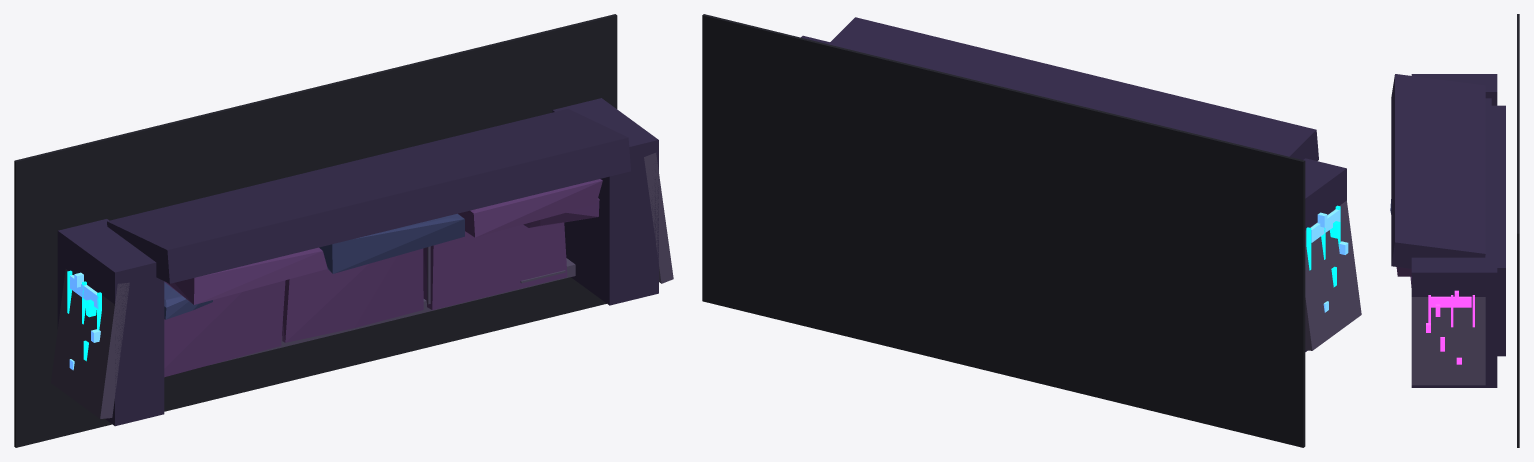
Rendered from couch.glb.
3 renders of one model, left to right at view 1: azimuth 30°, elevation 25°; view 2: azimuth 150°, elevation 25°; view 3: azimuth 270°, elevation 25°, orthographic. The views are drawn at different scales.
Visible parts, largest first — view 1: thin dark presentation floor, hard rear couch spine, right hard angular arm block, left hard angular arm block, soft overstuffed velvet seat cushion 2, soft overstuffed velvet seat cushion 3, soft overstuffed velvet seat cushion 1, left slanted glossy side armor, soft tall crumpled back cushion 2, soft tall crumpled back cushion 1, soft tall crumpled back cushion 3, right slanted glossy side armor (+3 smaller); view 2: thin dark presentation floor, hard rear couch spine, left slanted glossy side armor, left hard angular arm block; view 3: hard rear couch spine, right slanted glossy side armor, right hard angular arm block, long hard glossy cyberpunk base chassis, thin dark presentation floor, rear angular support rail, left hard angular arm block, right_corner_trim_0.55.
Part boxes in pixels (left/top/right/bottom): thin dark presentation floor: left=14, top=14, right=617, bottom=447; hard rear couch spine: left=107, top=109, right=630, bottom=283; right hard angular arm block: left=552, top=98, right=658, bottom=305; left hard angular arm block: left=57, top=219, right=164, bottom=426; soft overstuffed velvet seat cushion 2: left=282, top=248, right=423, bottom=342; soft overstuffed velvet seat cushion 3: left=423, top=222, right=567, bottom=310; soft overstuffed velvet seat cushion 1: left=164, top=280, right=285, bottom=377; left slanted glossy side armor: left=51, top=269, right=129, bottom=418; soft tall crumpled back cushion 2: left=319, top=213, right=464, bottom=273; soft tall crumpled back cushion 1: left=164, top=247, right=327, bottom=304; soft tall crumpled back cushion 3: left=458, top=179, right=602, bottom=237; right slanted glossy side armor: left=644, top=152, right=673, bottom=283; thin dark presentation floor: left=702, top=14, right=1305, bottom=447; hard rear couch spine: left=828, top=17, right=1318, bottom=160; left slanted glossy side armor: left=1305, top=200, right=1361, bottom=350; left hard angular arm block: left=1303, top=158, right=1346, bottom=351; hard rear couch spine: left=1391, top=74, right=1485, bottom=268; right slanted glossy side armor: left=1411, top=297, right=1485, bottom=385; right hard angular arm block: left=1411, top=255, right=1497, bottom=387; long hard glossy cyberpunk base chassis: left=1491, top=105, right=1505, bottom=356; thin dark presentation floor: left=1517, top=14, right=1519, bottom=447; rear angular support rail: left=1485, top=98, right=1491, bottom=254; left hard angular arm block: left=1411, top=74, right=1497, bottom=105; right_corner_trim_0.55: left=1429, top=296, right=1471, bottom=307.
Size of the model in its own units: 8.8 by 4 by 2.19.
